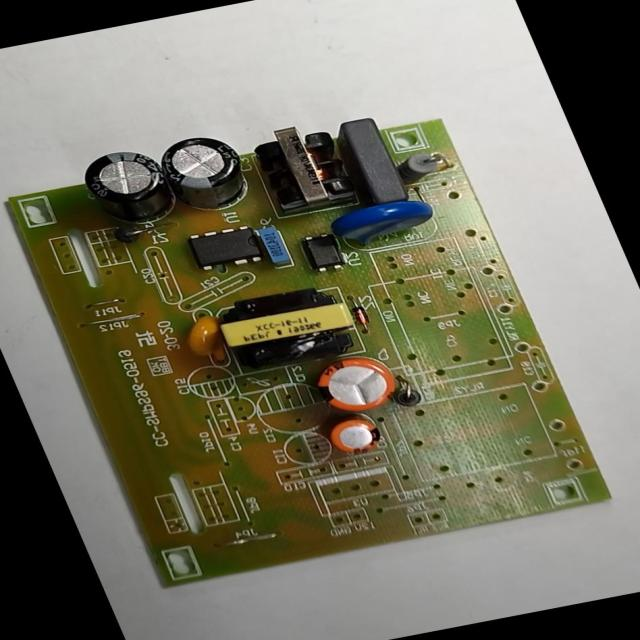Cap1: (292, 347, 421, 422)
Cap2: (307, 402, 404, 466)
Cap3: (149, 125, 263, 224)
Cap4: (68, 136, 192, 241)
MOSFET: (172, 218, 277, 276)
Mov: (314, 183, 453, 262)
Resistor: (384, 144, 462, 187)
Transformer: (193, 275, 375, 381), (238, 114, 372, 221)
